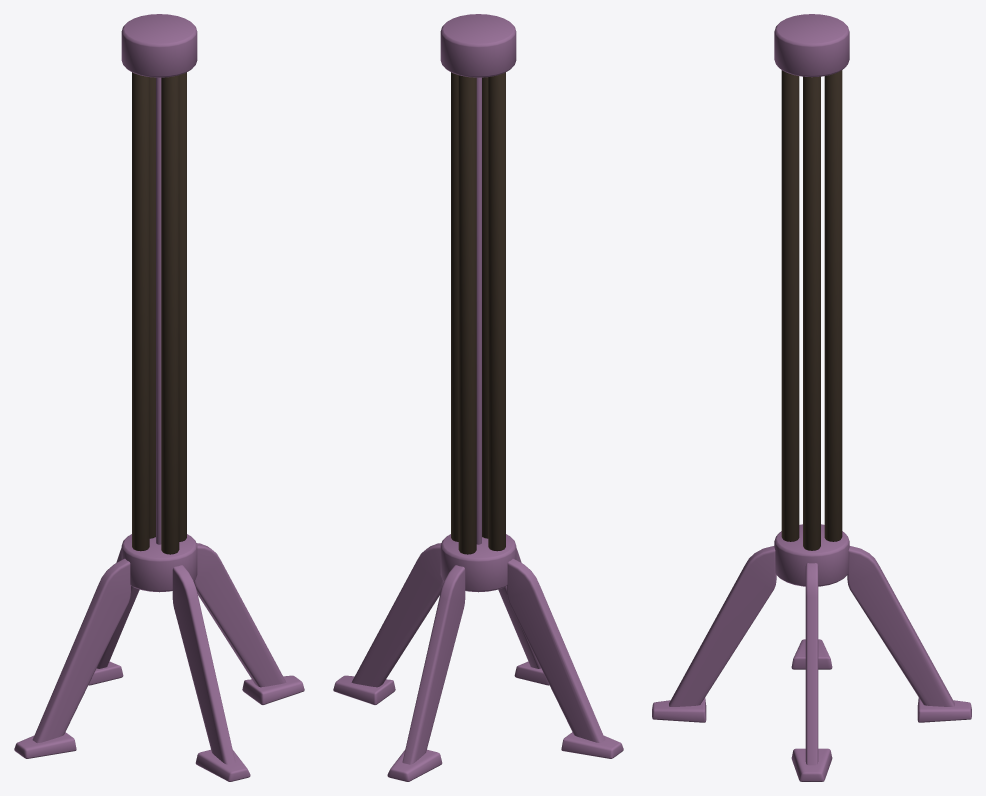
File: Light01.FBX
3 views of the same model, side by side, from view 1: azimuth 30°, elevation 25°; view 2: azimuth 150°, elevation 25°; view 3: azimuth 270°, elevation 25° (orthographic).
Parts seen in each view (by area): view 1: SM_Light01; view 2: SM_Light01; view 3: SM_Light01.
Part boxes in pixels (box(x1,y1,x2,y2)): SM_Light01: box(14, 14, 304, 781); SM_Light01: box(333, 14, 623, 781); SM_Light01: box(652, 14, 971, 781).
Bounding box in the file's own units: 37.2 × 88.03 × 37.2.
